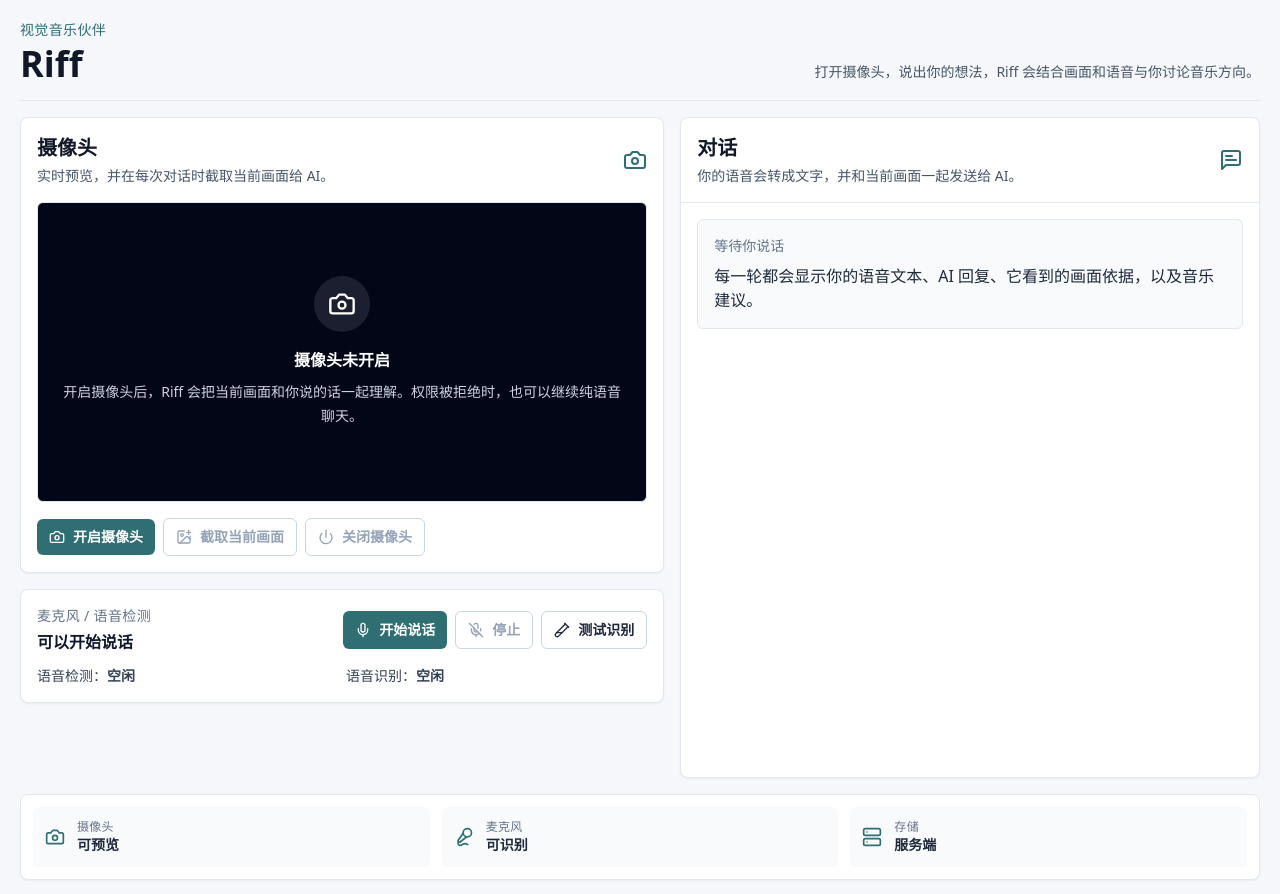
Test: home chat flow › shows the chat reply before surfacing async TTS failure state
This screenshot has width=1280, height=894.
What coordinates should you click on to do the following:
click the button "测试识别"
I would click on:
 (594, 630)
Its box is [541,611,647,649].
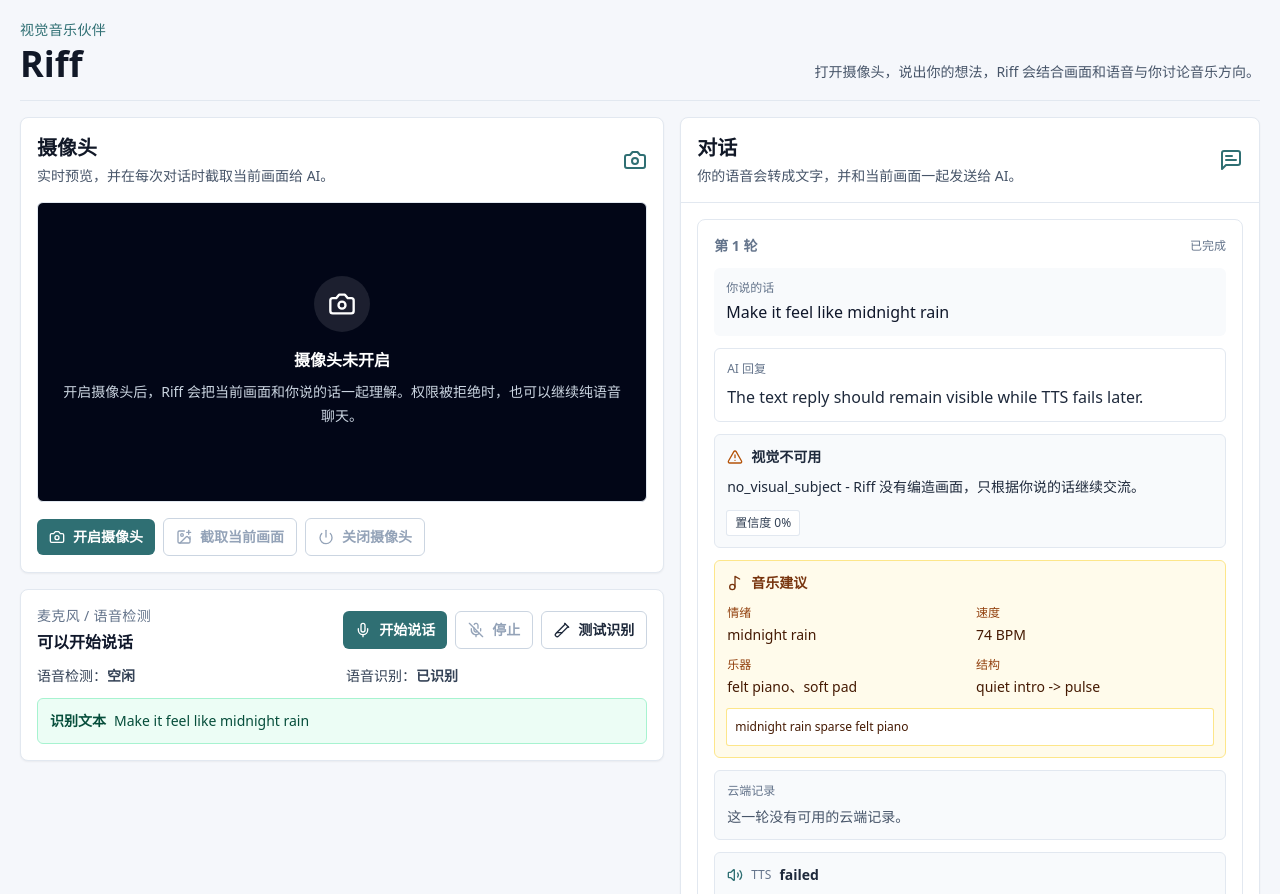
Expected: the text "The text reply should remain visible while TTS fails later." is shown, [727,385,1213,409]
Expected: the text "TTS" is shown, [727,386,1143,408]
Expected: the text "failed" is shown, [779,865,819,885]
